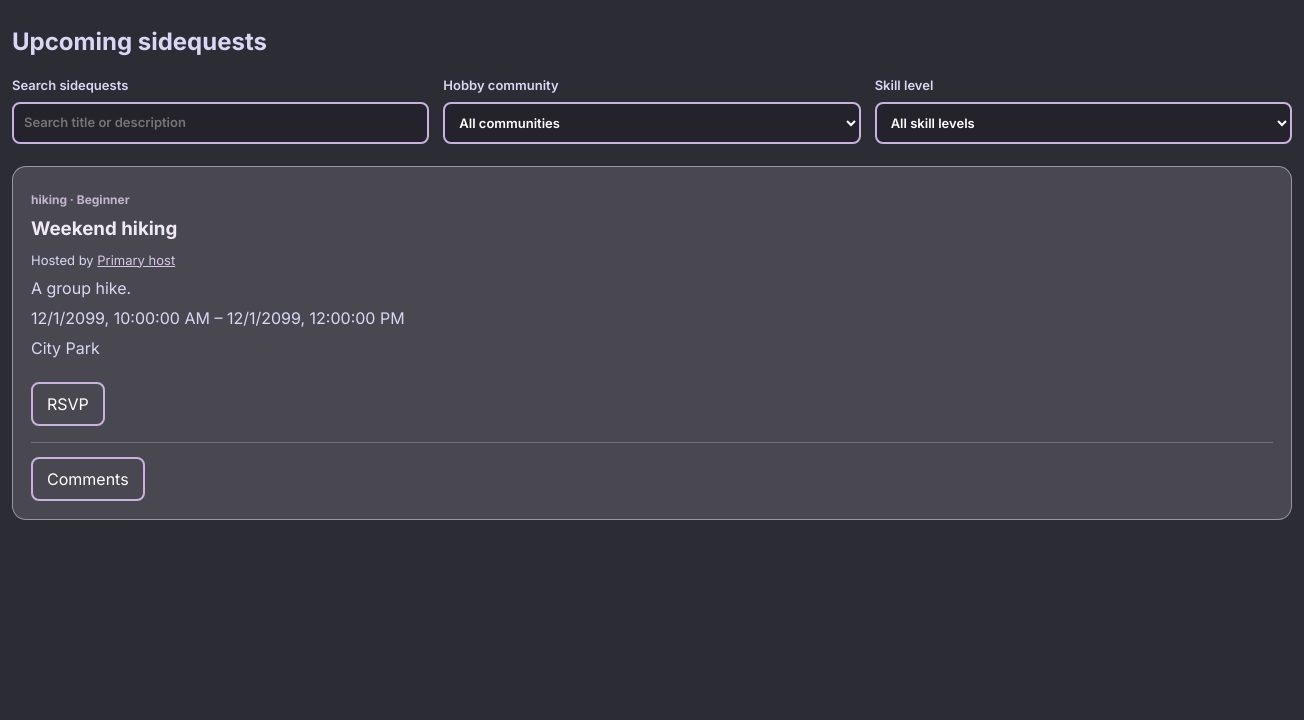
Test: a failed RSVP never offers calendar addition or requests Google access
Step 1. Click the button "RSVP" → (68,404), box 31,382 -> 105,426
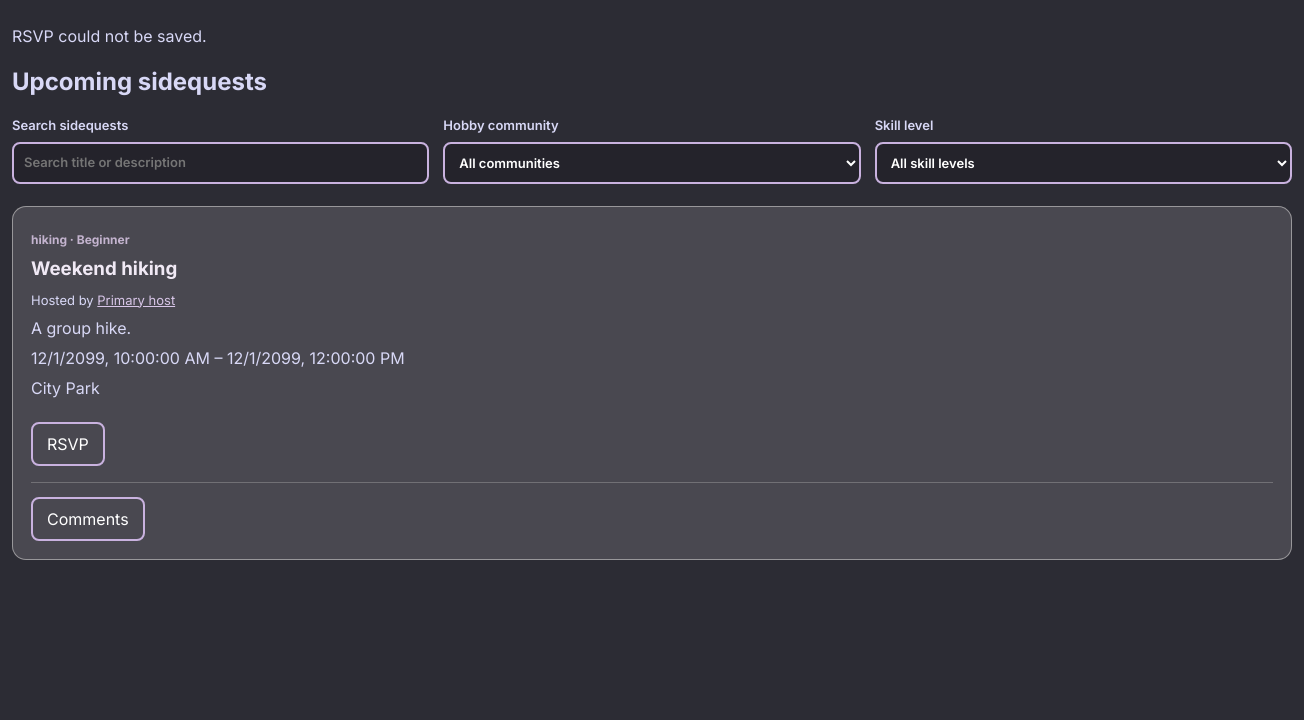
Expected: the button "RSVP" is enabled, 31,422 -> 105,466
Now the message reads "RSVP could not be saved.", box 12,26 -> 207,46
